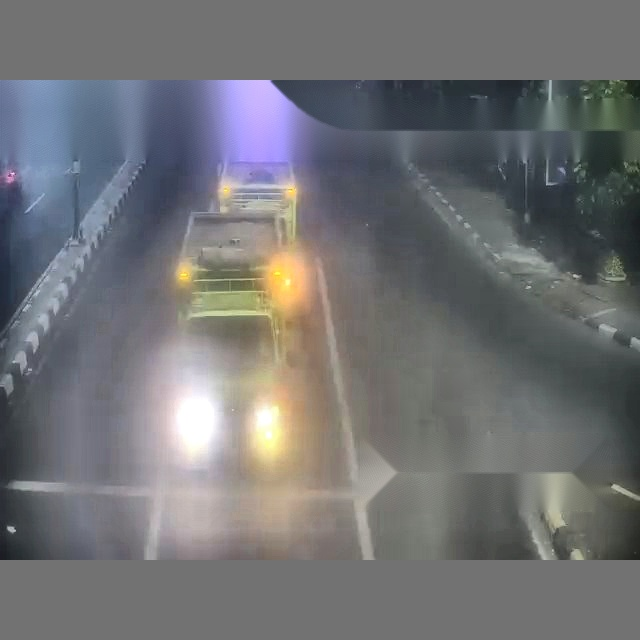Truk: (175, 211, 296, 321)
